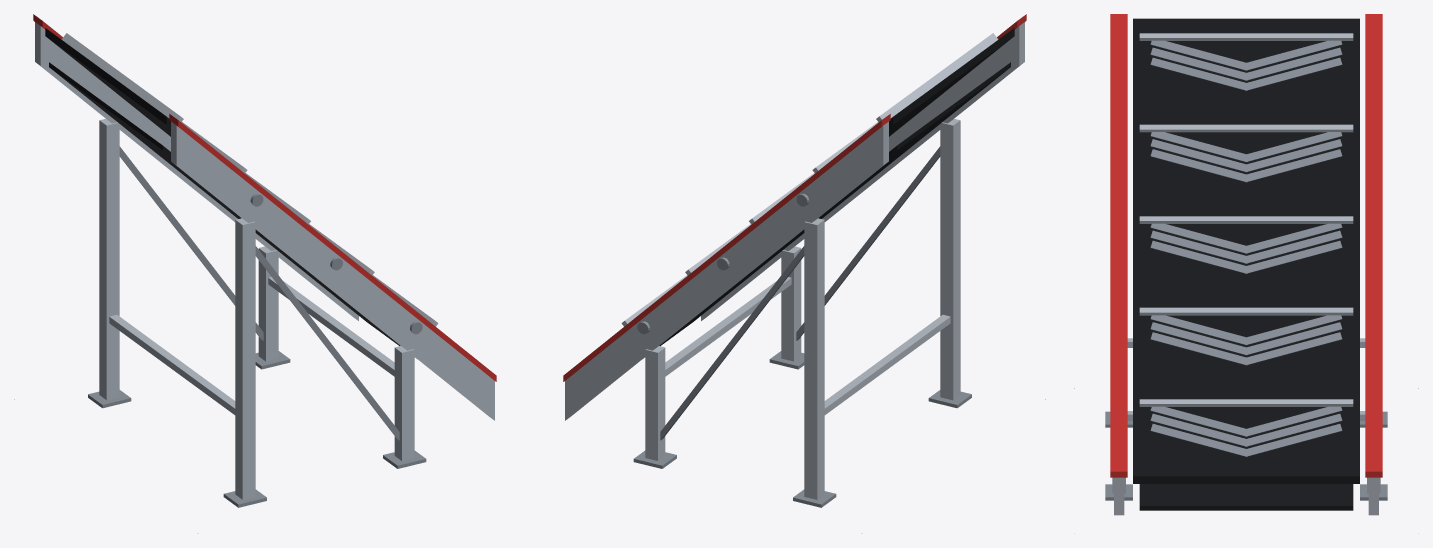
The model's file is convoyeur_rampe_descente_t3.glb.
3 views of the same model, side by side, from view 1: azimuth 30°, elevation 25°; view 2: azimuth 150°, elevation 25°; view 3: azimuth 270°, elevation 25° (orthographic). The views are drawn at different scales.
Parts seen in each view (by area): view 1: pieces_gris_clair.016, longeron_-1.024, pieces_acier.048, longeron_1.024, rive_-1.024, bande_gris_clair.004, bande_retour.024, bande_porteuse.024; view 2: pieces_gris_clair.016, longeron_1.024, pieces_acier.048, longeron_-1.024, rive_1.024, bande_gris_clair.004, bande_retour.024, bande_porteuse.024; view 3: bande_porteuse.024, bande_acier.042, bande_gris_clair.004, rive_1.024, rive_-1.024, bande_retour.024, pieces_acier.048, longeron_1.024, longeron_-1.024.
Boxes of the visible parts, x1=… form: pieces_gris_clair.016: x1=99, y1=119, x2=414, y2=499; longeron_-1.024: x1=171, y1=121, x2=494, y2=420; pieces_acier.048: x1=88, y1=146, x2=426, y2=507; longeron_1.024: x1=35, y1=22, x2=358, y2=320; rive_-1.024: x1=169, y1=114, x2=496, y2=381; bande_gris_clair.004: x1=61, y1=33, x2=438, y2=326; bande_retour.024: x1=49, y1=62, x2=416, y2=358; bande_porteuse.024: x1=45, y1=28, x2=170, y2=136; pieces_gris_clair.016: x1=645, y1=119, x2=960, y2=499; longeron_1.024: x1=565, y1=121, x2=888, y2=420; pieces_acier.048: x1=633, y1=146, x2=971, y2=507; longeron_-1.024: x1=701, y1=22, x2=1024, y2=320; rive_1.024: x1=563, y1=114, x2=890, y2=381; bande_gris_clair.004: x1=621, y1=33, x2=998, y2=326; bande_retour.024: x1=643, y1=62, x2=1010, y2=358; bande_porteuse.024: x1=889, y1=28, x2=1014, y2=136; bande_porteuse.024: x1=1133, y1=18, x2=1359, y2=483; bande_acier.042: x1=1150, y1=40, x2=1342, y2=456; bande_gris_clair.004: x1=1139, y1=33, x2=1353, y2=406; rive_1.024: x1=1365, y1=14, x2=1382, y2=477; rive_-1.024: x1=1110, y1=14, x2=1127, y2=477; bande_retour.024: x1=1139, y1=484, x2=1353, y2=510; pieces_acier.048: x1=1105, y1=411, x2=1387, y2=500; longeron_1.024: x1=1368, y1=477, x2=1378, y2=515; longeron_-1.024: x1=1114, y1=477, x2=1124, y2=515.
Bounding box in the file's own units: 1 × 1.2 × 1.
